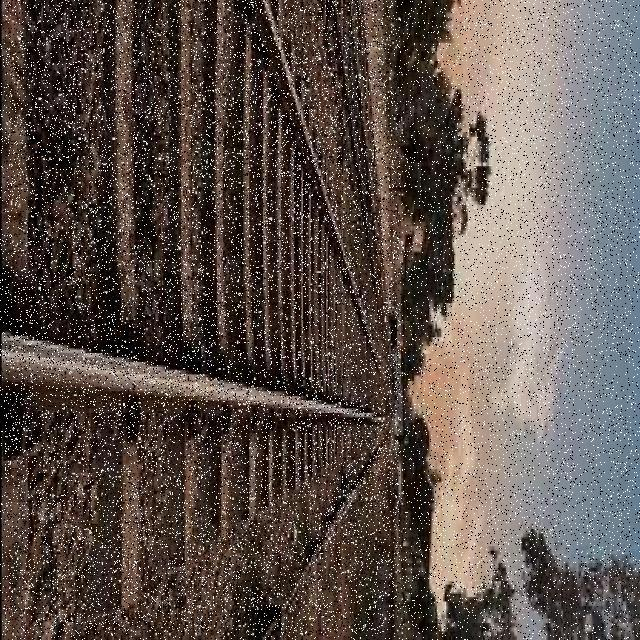rail: (5, 1, 400, 634)
